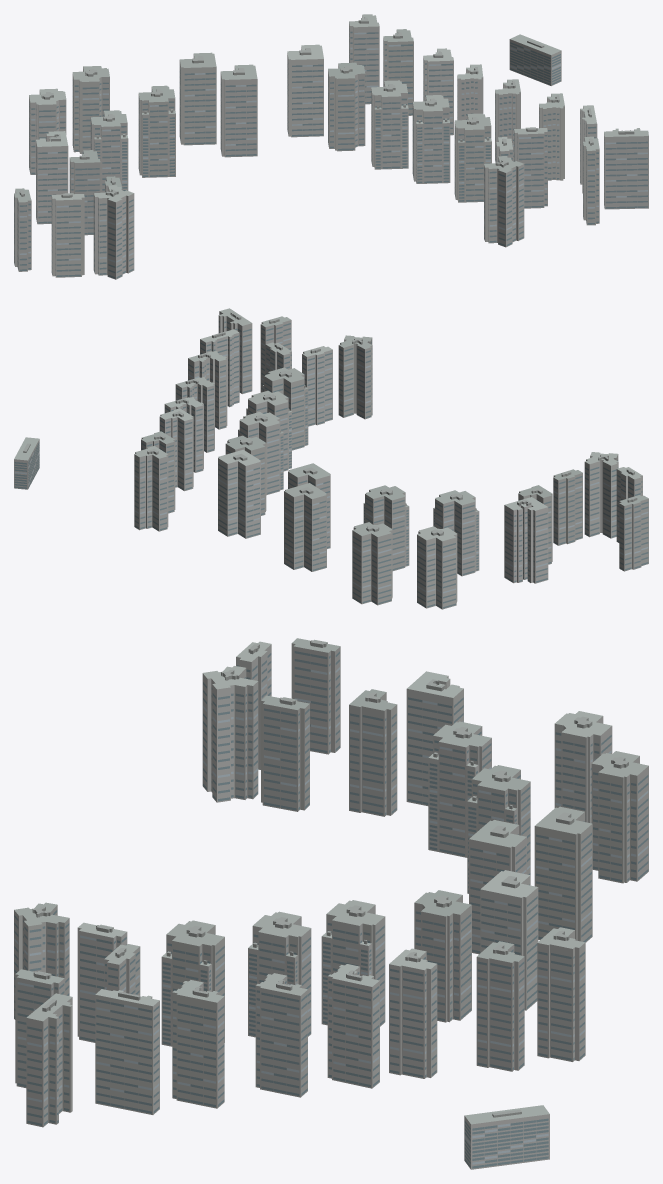
Rendered from apt-a13704104.glb.
3 views of the same model, one above another, from view 1: azimuth 30°, elevation 25°; view 2: azimuth 150°, elevation 25°; view 3: azimuth 270°, elevation 25° (orthographic). The views are drawn at different scales.
Visible parts, largest first — view 1: apt-a13704104; view 2: apt-a13704104; view 3: apt-a13704104.
Boxes of the visible parts, x1=… form: apt-a13704104: x1=14, y1=14, x2=648, y2=279; apt-a13704104: x1=14, y1=308, x2=648, y2=609; apt-a13704104: x1=14, y1=638, x2=648, y2=1169.
Size of the model in its own units: 640 by 81 by 399.
